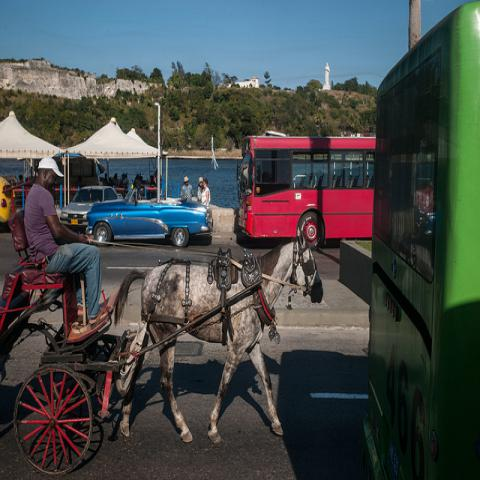bus: (357, 1, 479, 476), (247, 134, 375, 241)
car: (84, 187, 213, 249), (60, 185, 122, 229), (0, 176, 13, 233)
